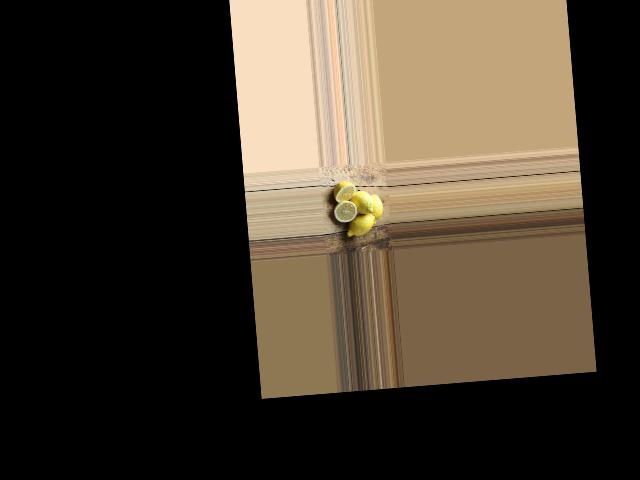lemon: (343, 212, 377, 240)
